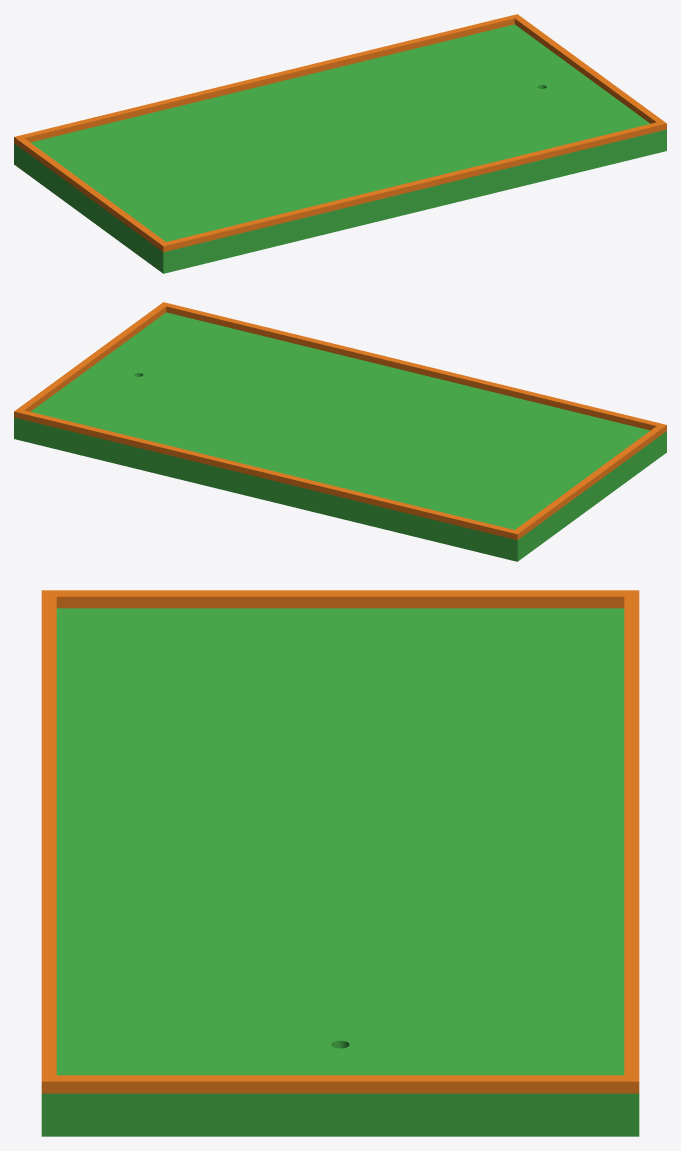
The model's file is tinker.obj.
3 views of the same model, one above another, from view 1: azimuth 30°, elevation 25°; view 2: azimuth 150°, elevation 25°; view 3: azimuth 270°, elevation 25° (orthographic). The views are drawn at different scales.
Parts seen in each view (by area): view 1: group_0_4634441, group_0_16089887; view 2: group_0_4634441, group_0_16089887; view 3: group_0_4634441, group_0_16089887.
Part boxes in pixels (bbox=[...]): group_0_4634441: bbox=[14, 24, 666, 273]; group_0_16089887: bbox=[14, 14, 666, 252]; group_0_4634441: bbox=[14, 312, 666, 561]; group_0_16089887: bbox=[14, 302, 666, 540]; group_0_4634441: bbox=[41, 608, 639, 1136]; group_0_16089887: bbox=[41, 590, 639, 1093].
Size of the model in its own units: 158 by 8.26 by 81.34.
